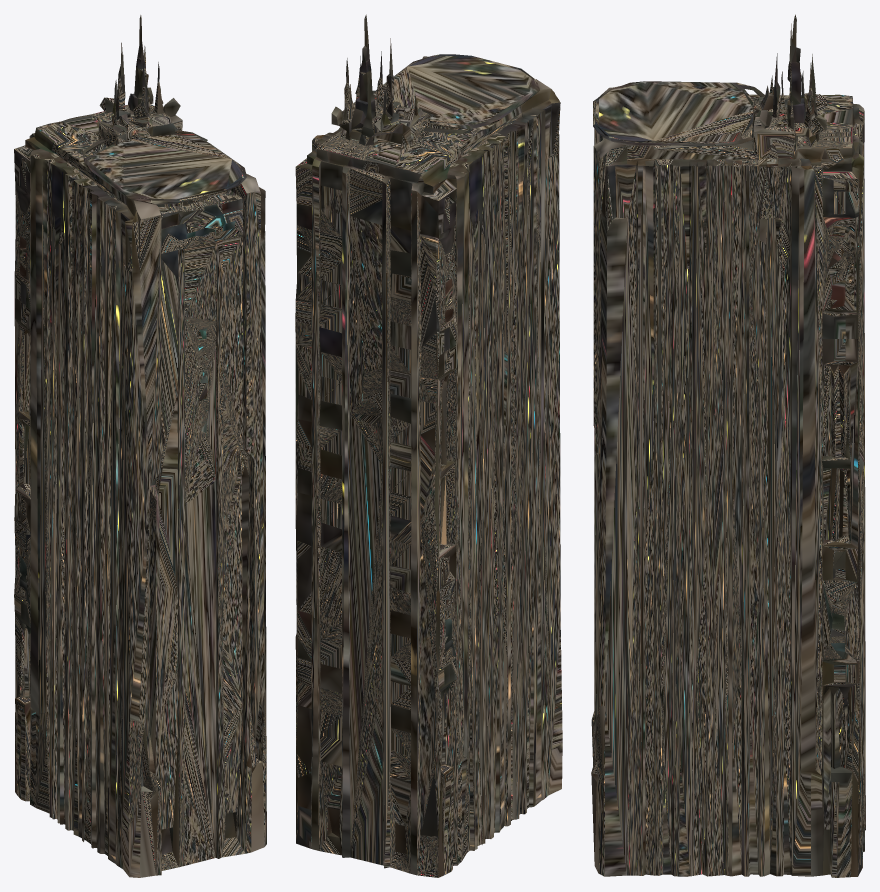
The model's file is t06_far.glb.
3 views of the same model, side by side, from view 1: azimuth 30°, elevation 25°; view 2: azimuth 150°, elevation 25°; view 3: azimuth 270°, elevation 25° (orthographic). The views are drawn at different scales.
Visible parts, largest first — view 1: t06_far; view 2: t06_far; view 3: t06_far.
Part boxes in pixels (bbox=[...]): t06_far: bbox=[14, 15, 266, 877]; t06_far: bbox=[295, 14, 562, 877]; t06_far: bbox=[591, 14, 865, 877].
Bounding box in the file's own units: 29.25 × 150 × 44.33.
Materials: 1 (1 with a texture image).
